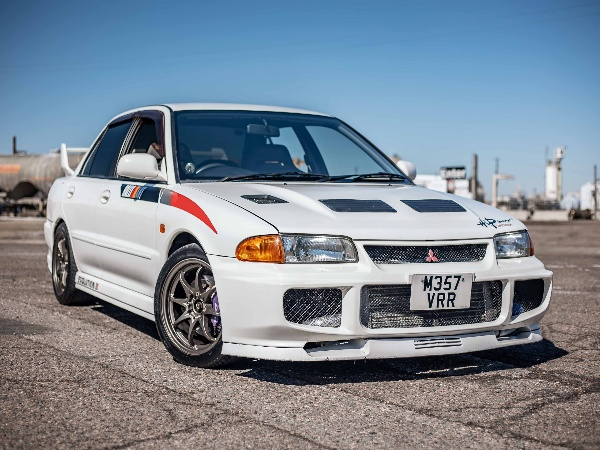licence: (403, 269, 478, 312)
